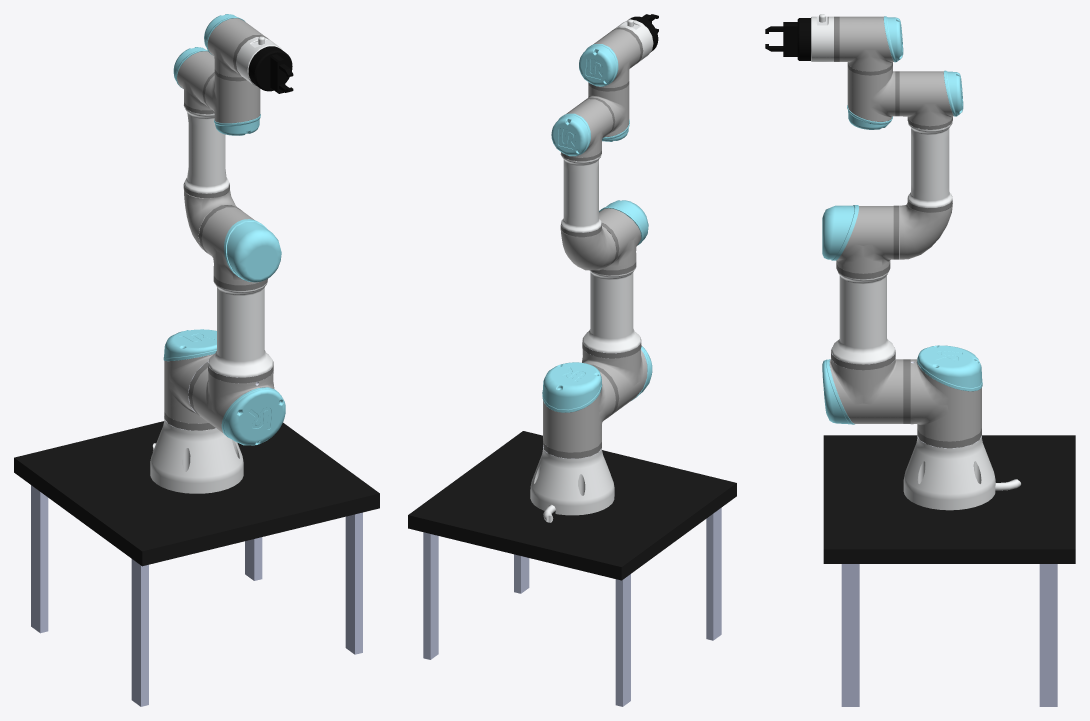
The model's file is Cobot.glb.
3 renders of one model, left to right at view 1: azimuth 30°, elevation 25°; view 2: azimuth 150°, elevation 25°; view 3: azimuth 270°, elevation 25°, orthographic. The views are drawn at different scales.
Parts seen in each view (by area): view 1: color, URjoint2_Bodies, color-2, URjoint3_Bodies, URbase_Bodies, URjoint1_Bodies, URjoint4_Bodies, URjoint5_Bodies, UREndEffector_Bodies, URjoint6_Bodies; view 2: color, URjoint2_Bodies, URjoint3_Bodies, color-2, URjoint1_Bodies, URbase_Bodies, URjoint5_Bodies, URjoint4_Bodies, URjoint6_Bodies; view 3: color, URjoint2_Bodies, URjoint3_Bodies, URjoint1_Bodies, URbase_Bodies, color-2, URjoint5_Bodies, URjoint4_Bodies, URjoint6_Bodies, UREndEffector_Bodies.
Boxes of the visible parts, x1,y1,x2,y2 form: color: (14,421,379,566); URjoint2_Bodies: (188,207,285,445); color-2: (31,485,362,706); URjoint3_Bodies: (173,47,241,253); URbase_Bodies: (150,416,243,493); URjoint1_Bodies: (163,329,216,430); URjoint4_Bodies: (202,72,260,135); URjoint5_Bodies: (204,14,265,81); UREndEffector_Bodies: (248,46,292,93); URjoint6_Bodies: (233,34,282,85); color: (408,431,736,580); URjoint2_Bodies: (578,200,652,416); URjoint3_Bodies: (551,99,619,270); color-2: (423,508,721,706); URjoint1_Bodies: (542,362,615,458); URbase_Bodies: (530,448,614,522); URjoint5_Bodies: (579,29,640,91); URjoint4_Bodies: (583,83,629,141); URjoint6_Bodies: (611,19,653,63); color: (823,435,1075,563); URjoint2_Bodies: (822,205,910,424); URjoint3_Bodies: (893,70,963,259); URjoint1_Bodies: (910,345,982,448); URbase_Bodies: (903,436,1020,510); color-2: (841,564,1057,706); URjoint5_Bodies: (839,16,903,75); URjoint4_Bodies: (847,66,899,129); URjoint6_Bodies: (811,14,839,61); UREndEffector_Bodies: (783,18,810,60).
Size of the model in its own units: 0.375 by 0.9798 by 0.431.
